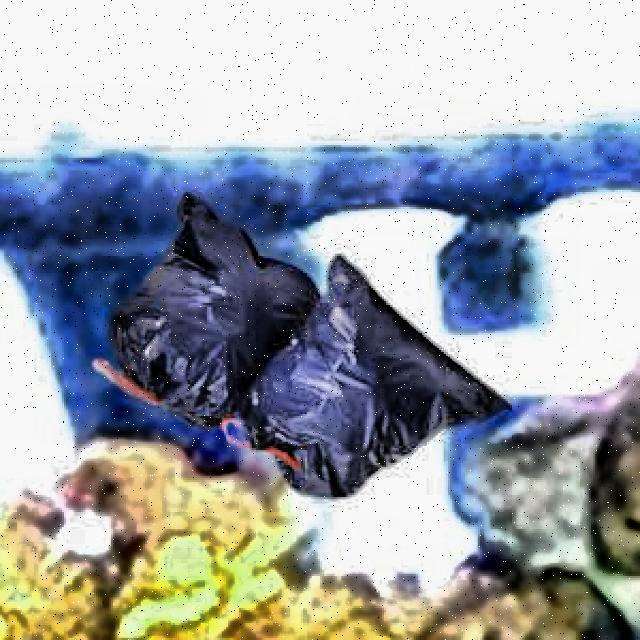Trashbag: (262, 272, 477, 512), (100, 208, 292, 407)
